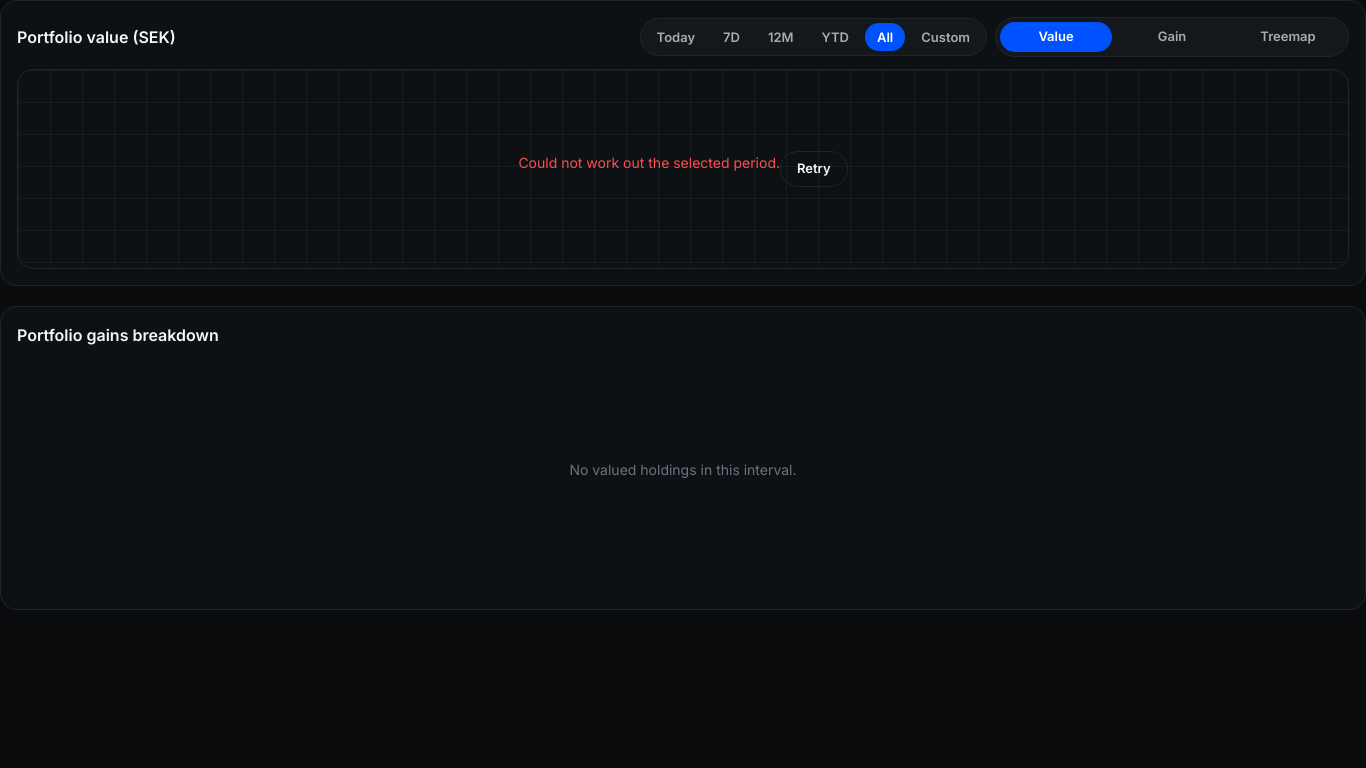
Test: Dashboard gain view › refuses to plot lifetime history when no period could be resolved
expect the text "Could not work out the selected period." is shown: met, box x1=518 y1=152 x2=780 y2=172
The treemap remains reachable from that state.
Click the button "Treemap".
click(1288, 37)  # box x1=1232 y1=22 x2=1344 y2=52
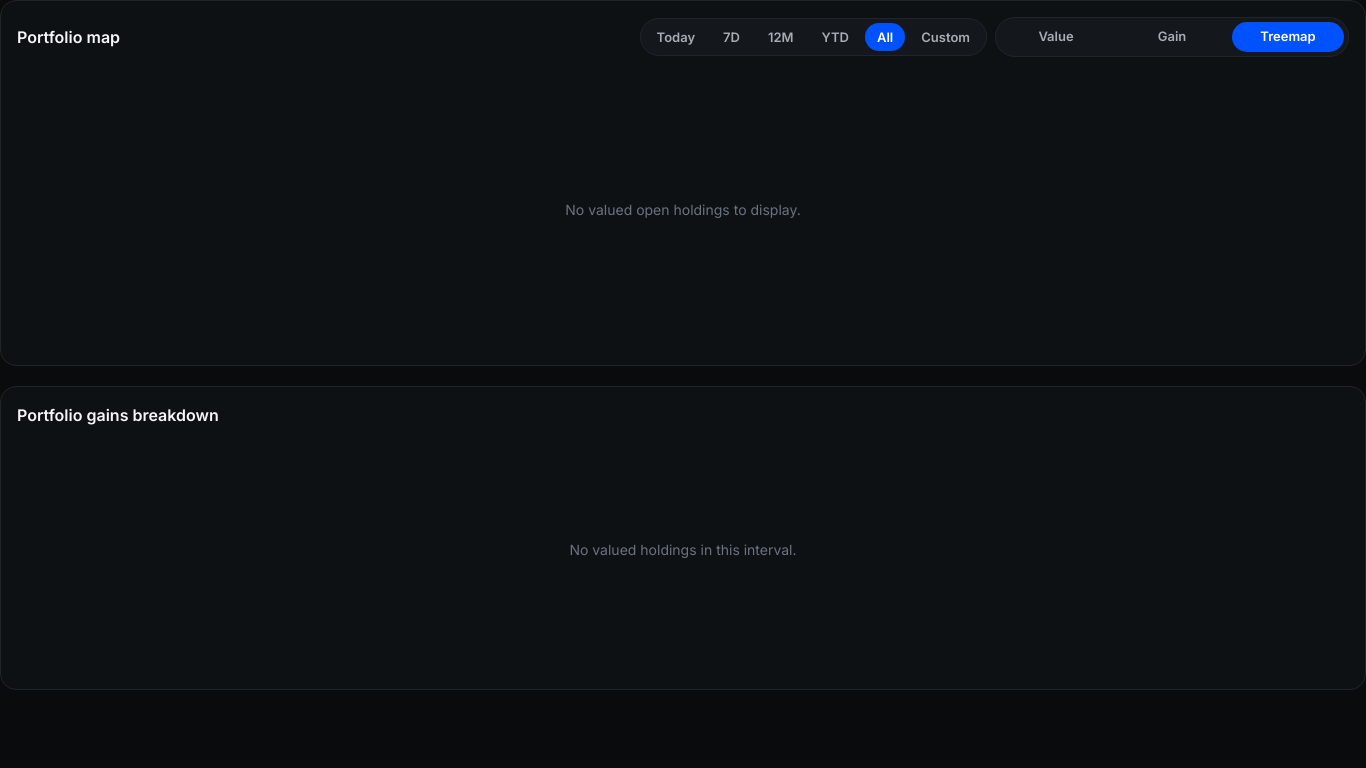
expect the heading "Portfolio map" is shown: met, box x1=17 y1=25 x2=120 y2=49
